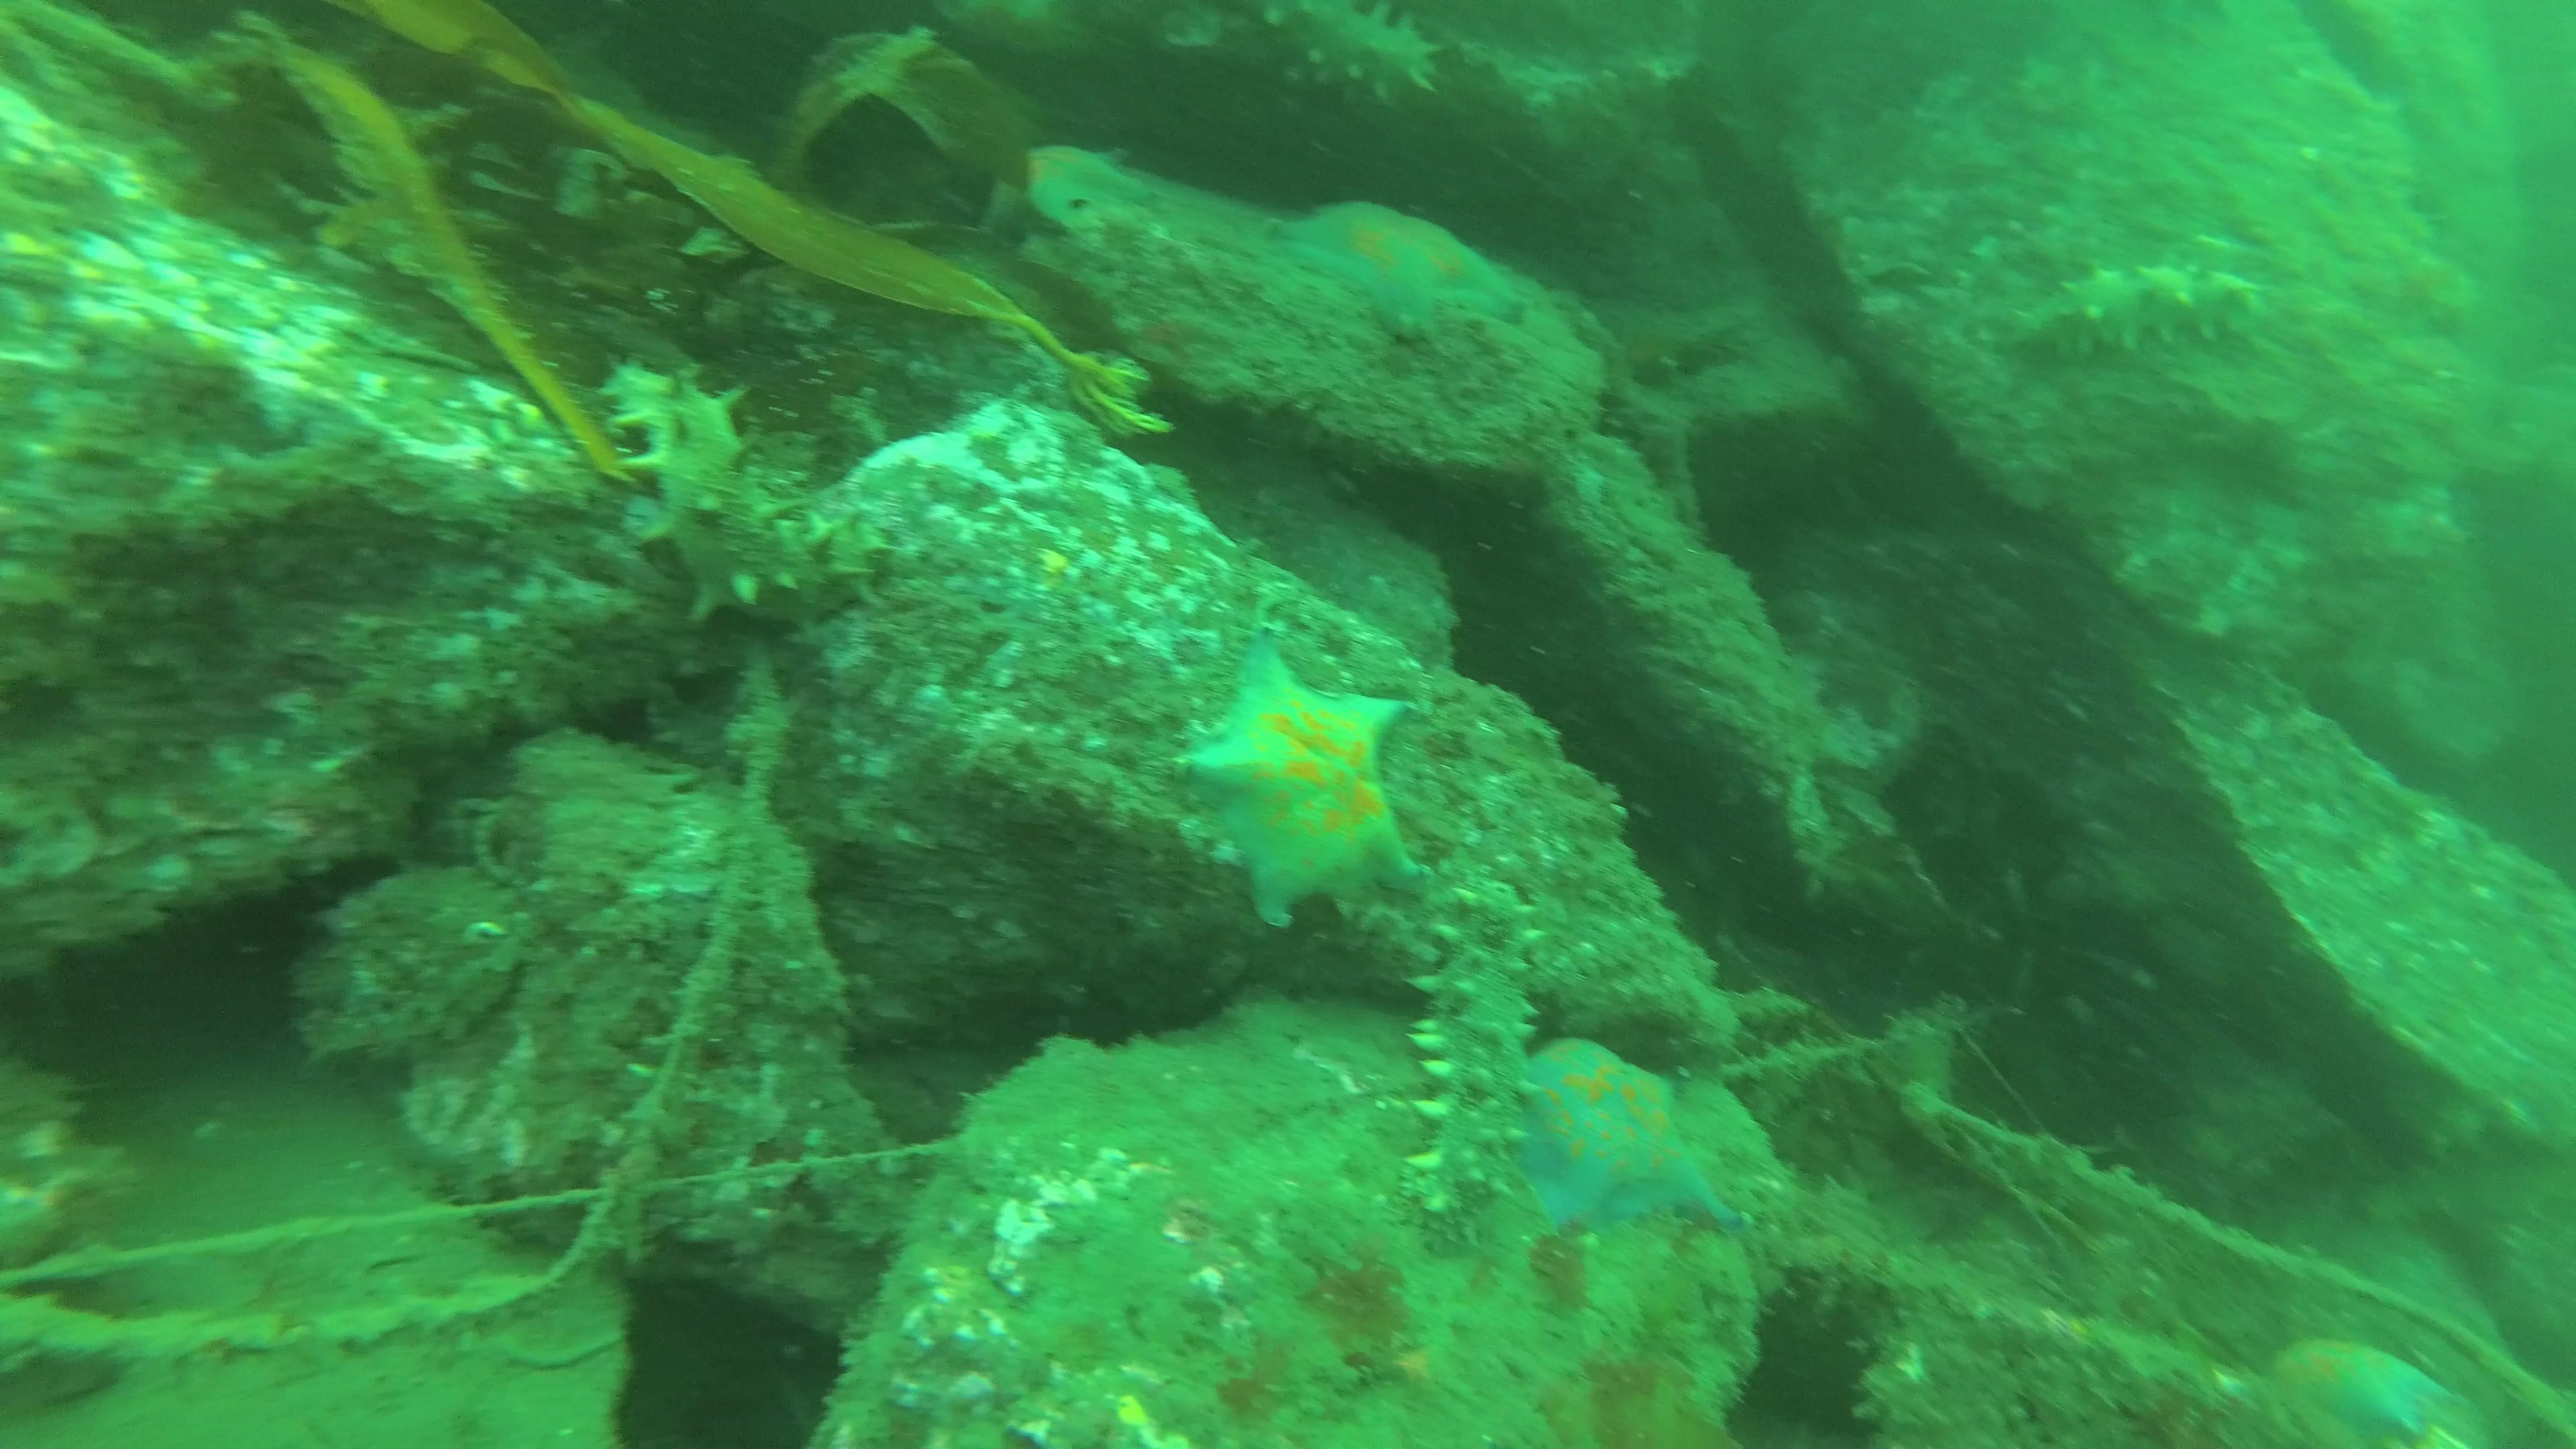holothurian: (589, 354, 899, 637), (1403, 876, 1546, 1231), (1997, 267, 2266, 354), (1235, 0, 1438, 113)
starfish: (1177, 619, 1433, 925), (1497, 1031, 1748, 1240), (1249, 188, 1536, 345), (2249, 1327, 2461, 1449), (1021, 136, 1146, 225)
